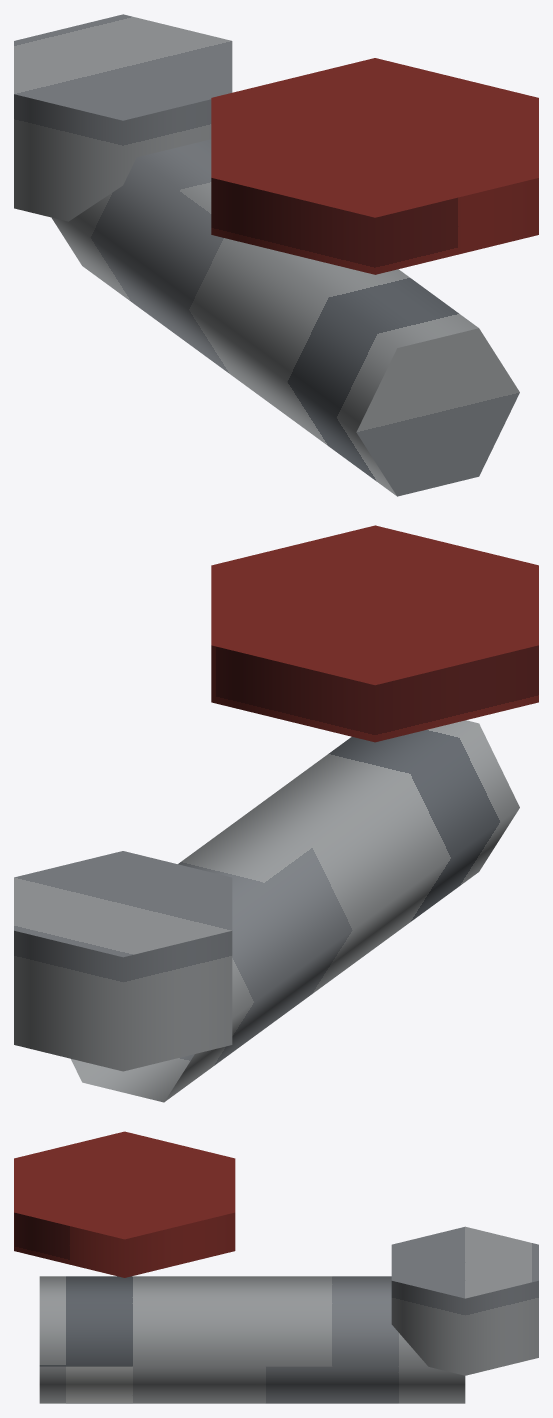
The model's file is RES_Ext_HoseBib.obj.
3 views of the same model, one above another, from view 1: azimuth 30°, elevation 25°; view 2: azimuth 150°, elevation 25°; view 3: azimuth 270°, elevation 25° (orthographic). The views are drawn at different scales.
Visible parts, largest first — view 1: RES_Ext_HoseBib_Mesh_M_Furn_MetalBrushed, RES_Ext_HoseBib_Mesh_M_Town_PaintRed; view 2: RES_Ext_HoseBib_Mesh_M_Furn_MetalBrushed, RES_Ext_HoseBib_Mesh_M_Town_PaintRed; view 3: RES_Ext_HoseBib_Mesh_M_Furn_MetalBrushed, RES_Ext_HoseBib_Mesh_M_Town_PaintRed.
Part boxes in pixels (<box>): RES_Ext_HoseBib_Mesh_M_Furn_MetalBrushed: <box>14,14,519,496</box>; RES_Ext_HoseBib_Mesh_M_Town_PaintRed: <box>211,58,538,274</box>; RES_Ext_HoseBib_Mesh_M_Furn_MetalBrushed: <box>14,720,519,1102</box>; RES_Ext_HoseBib_Mesh_M_Town_PaintRed: <box>211,525,538,742</box>; RES_Ext_HoseBib_Mesh_M_Furn_MetalBrushed: <box>39,1226,538,1403</box>; RES_Ext_HoseBib_Mesh_M_Town_PaintRed: <box>14,1131,235,1277</box>.
Size of the model in its own units: 0.06 by 0.053 by 0.1233.
Materials: 2 (2 with a texture image).
